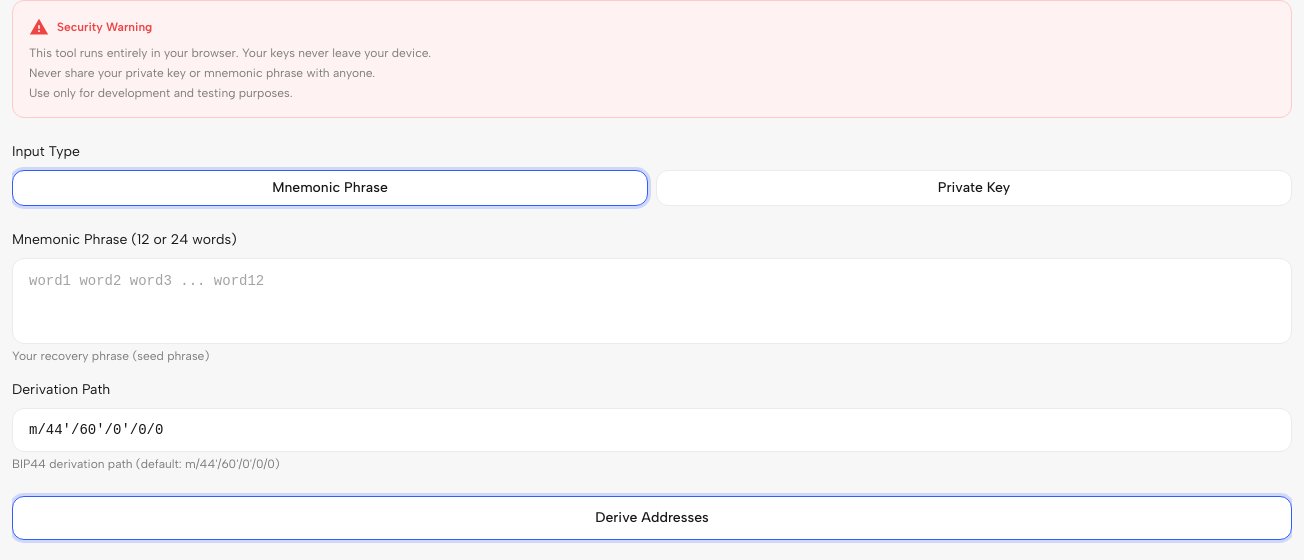
it: MultiChainAddressDeriverTool › switches to private key input
This screenshot has width=1304, height=560.
Click the button "Private Key": (974, 188) [656,170,1292,206]
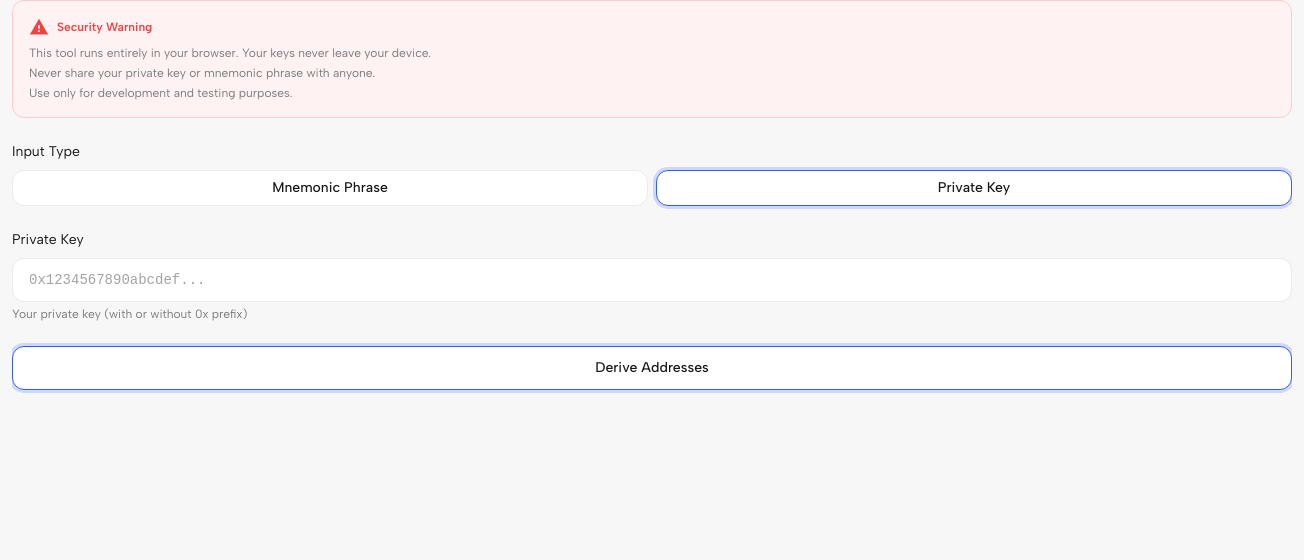
Now the text "Mnemonic Phrase (12 or 24 words)" is gone
